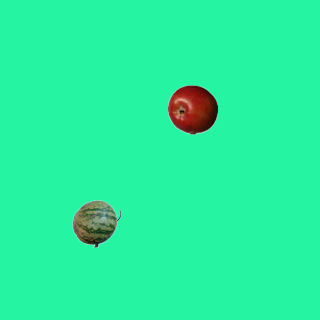Apple Braeburn: (167, 84, 217, 134)
Watermelon: (71, 198, 121, 248)
